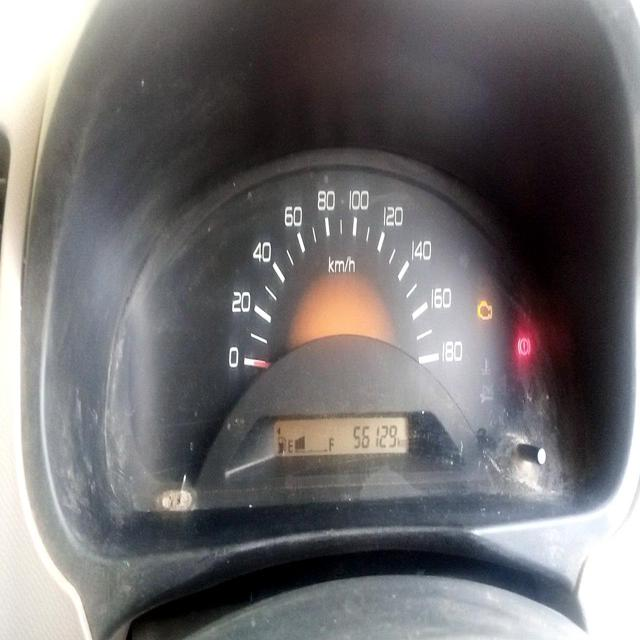odometer: (351, 422, 398, 450)
